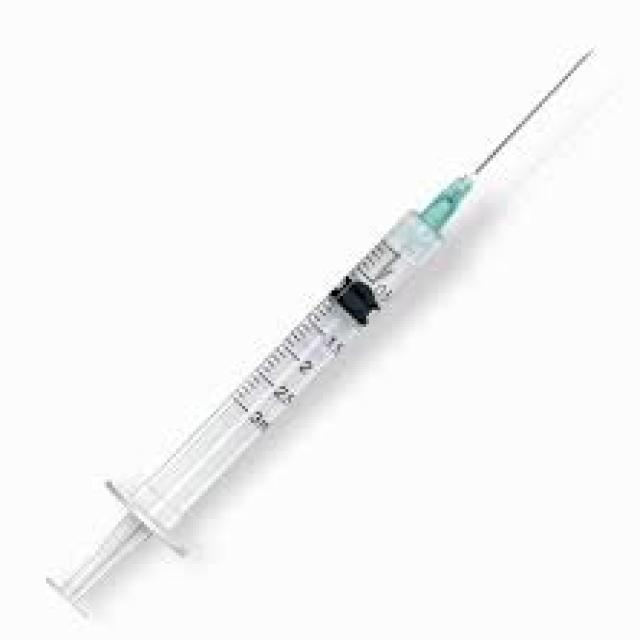syringe: (43, 42, 594, 618)
